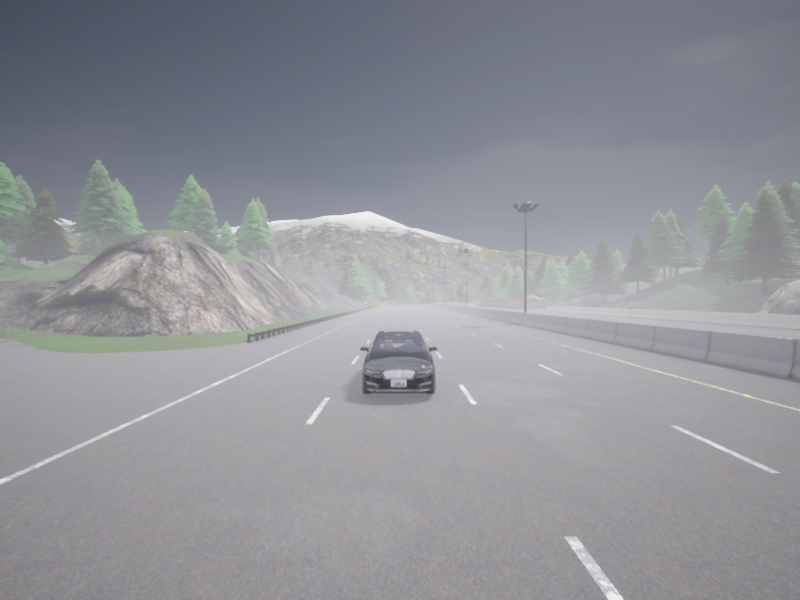vehicle: (360, 329, 437, 394)
